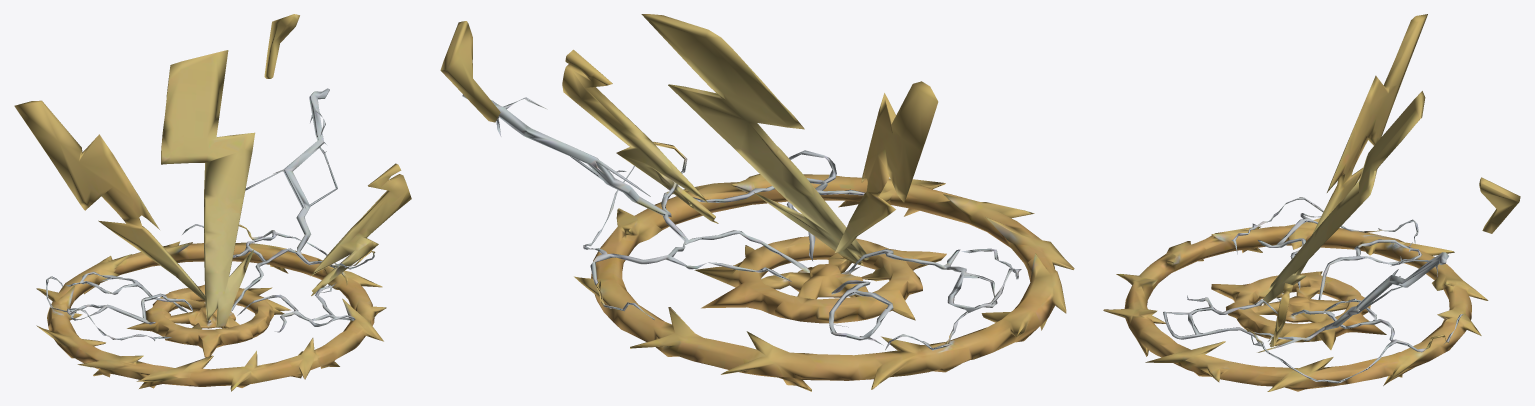
Rendered from thunder_v.glb.
3 views of the same model, side by side, from view 1: azimuth 30°, elevation 25°; view 2: azimuth 150°, elevation 25°; view 3: azimuth 270°, elevation 25° (orthographic). The views are drawn at different scales.
Parts seen in each view (by area): view 1: tripo_node_ba8059fb-fcc1-431a-8214-0250c4af6ae1; view 2: tripo_node_ba8059fb-fcc1-431a-8214-0250c4af6ae1; view 3: tripo_node_ba8059fb-fcc1-431a-8214-0250c4af6ae1.
Boxes of the visible parts, box(x1,y1,x2,y2) form: tripo_node_ba8059fb-fcc1-431a-8214-0250c4af6ae1: box(14, 14, 411, 391); tripo_node_ba8059fb-fcc1-431a-8214-0250c4af6ae1: box(440, 14, 1074, 391); tripo_node_ba8059fb-fcc1-431a-8214-0250c4af6ae1: box(1103, 14, 1520, 391).
Size of the model in its own units: 0.9219 by 0.5709 by 0.8769.
1 material, 1 textured.
